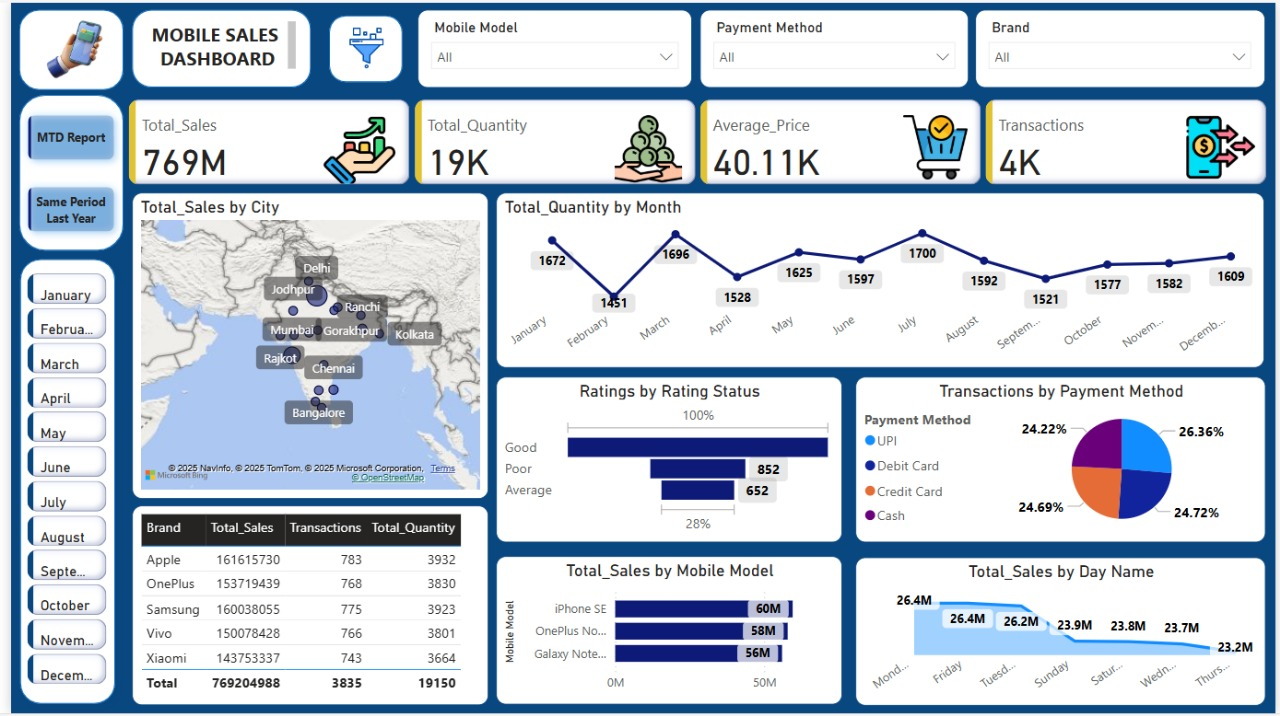

Layout of this report page (visuals, bound fields, positions):
{"tool":"powerbi","page":{"name":"Dashboard","canvas":[1279,720],"ordinal":0},"visuals":[{"type":"shape","box":[8.1,7,105.7,81.3],"z":0},{"type":"shape","box":[8.1,93,105.7,158],"z":1000},{"type":"shape","box":[0,251.1,114.4,468.9],"z":2000},{"type":"advancedSlicerVisual","fields":{"Values":["Custom Calender.Date.Variation.Date Hierarchy.Month"]},"box":[12.2,268.9,90,434.4],"z":3000},{"type":"cardVisual","fields":{"Data":["Mobile_Sales.Total_Sales","Mobile_Sales.Total_Quantity","Mobile_Sales.Average_Price","Mobile_Sales.Transactions"]},"box":[114.4,93.3,1164.4,96.7],"z":4000},{"type":"image","box":[0,7,129,81.3],"z":5000},{"type":"slicer","fields":{"Values":["Mobile_Sales.Mobile Model"]},"box":[411.1,6.7,277.8,78.9],"z":6000},{"type":"slicer","fields":{"Values":["Mobile_Sales.Payment Method"]},"box":[696.7,6.7,272.2,78.9],"z":7000},{"type":"slicer","fields":{"Values":["Mobile_Sales.Brand"]},"box":[975.6,6.7,293.3,78.9],"z":8000},{"type":"shape","box":[322.2,13.3,74.4,67.8],"z":9000},{"type":"shape","box":[122.2,6.7,181.1,78.9],"z":10000},{"type":"image","box":[281.1,20,157.8,52.2],"z":11000},{"type":"textbox","box":[133.3,14.4,160,58.9],"z":13000},{"type":"map","fields":{"Category":["Mobile_Sales.City"],"Size":["Mobile_Sales.Total_Sales"]},"box":[122.2,192.2,361.1,310],"z":14000},{"type":"lineChart","fields":{"Category":["Custom Calender.Date.Variation.Date Hierarchy.Month"],"Y":["Mobile_Sales.Total_Quantity"]},"box":[491.1,192.2,777.8,177.8],"z":15000},{"type":"funnel","title":"Ratings by Rating Status","fields":{"Y":["CountNonNull(Mobile_Sales.Customer Ratings)"],"Category":["Mobile_Sales.Rating Status"]},"box":[491.1,378.9,350,167.8],"z":16000},{"type":"pieChart","fields":{"Y":["Mobile_Sales.Transactions"],"Category":["Mobile_Sales.Payment Method"]},"box":[854.4,378.7,415.4,168],"z":17000},{"type":"clusteredBarChart","fields":{"Y":["Mobile_Sales.Total_Sales"],"Category":["Mobile_Sales.Mobile Model"]},"box":[491.1,560.9,350.3,150.3],"z":18000},{"type":"areaChart","fields":{"Y":["Mobile_Sales.Total_Sales"],"Category":["Custom Calender.Day Name"]},"box":[854.4,562.1,415.4,150.3],"z":19000},{"type":"tableEx","fields":{"Values":["Mobile_Sales.Brand","Mobile_Sales.Total_Sales","Mobile_Sales.Transactions","Mobile_Sales.Total_Quantity"]},"box":[122.2,510,361.1,202.2],"z":20000},{"type":"pageNavigator","box":[7.8,104.4,105.6,136.7],"z":21000}]}

Visuals, with their boxes in screenshot pixels (x1, y1, x2, y2), scaled from the page's 1279x720 canvas onto the 1280x716 screenshot:
shape: (x1=8, y1=7, x2=114, y2=88)
shape: (x1=8, y1=92, x2=114, y2=250)
shape: (x1=0, y1=250, x2=114, y2=715)
advancedSlicerVisual - Custom Calender.Date.Variation.Date Hierarchy.Month: (x1=12, y1=267, x2=102, y2=699)
cardVisual - Mobile_Sales.Total_Sales x Mobile_Sales.Total_Quantity: (x1=114, y1=93, x2=1279, y2=189)
image: (x1=0, y1=7, x2=129, y2=88)
slicer - Mobile_Sales.Mobile Model: (x1=411, y1=7, x2=689, y2=85)
slicer - Mobile_Sales.Payment Method: (x1=697, y1=7, x2=970, y2=85)
slicer - Mobile_Sales.Brand: (x1=976, y1=7, x2=1270, y2=85)
shape: (x1=322, y1=13, x2=397, y2=81)
shape: (x1=122, y1=7, x2=304, y2=85)
image: (x1=281, y1=20, x2=439, y2=72)
textbox: (x1=133, y1=14, x2=294, y2=73)
map - Mobile_Sales.City x Mobile_Sales.Total_Sales: (x1=122, y1=191, x2=484, y2=499)
lineChart - Custom Calender.Date.Variation.Date Hierarchy.Month x Mobile_Sales.Total_Quantity: (x1=491, y1=191, x2=1270, y2=368)
"Ratings by Rating Status" funnel: (x1=491, y1=377, x2=842, y2=544)
pieChart - Mobile_Sales.Transactions x Mobile_Sales.Payment Method: (x1=855, y1=377, x2=1271, y2=544)
clusteredBarChart - Mobile_Sales.Total_Sales x Mobile_Sales.Mobile Model: (x1=491, y1=558, x2=842, y2=707)
areaChart - Mobile_Sales.Total_Sales x Custom Calender.Day Name: (x1=855, y1=559, x2=1271, y2=708)
tableEx - Mobile_Sales.Brand x Mobile_Sales.Total_Sales: (x1=122, y1=507, x2=484, y2=708)
pageNavigator: (x1=8, y1=104, x2=113, y2=240)
